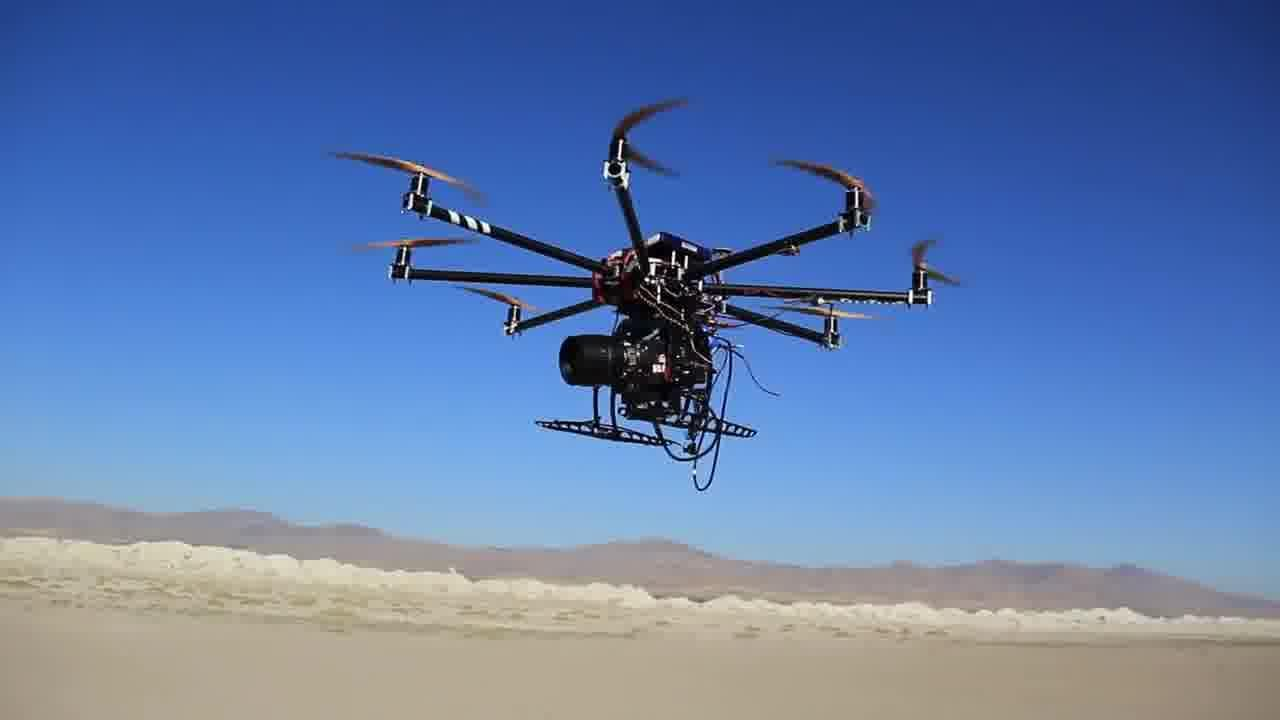drone: (309, 82, 852, 467)
